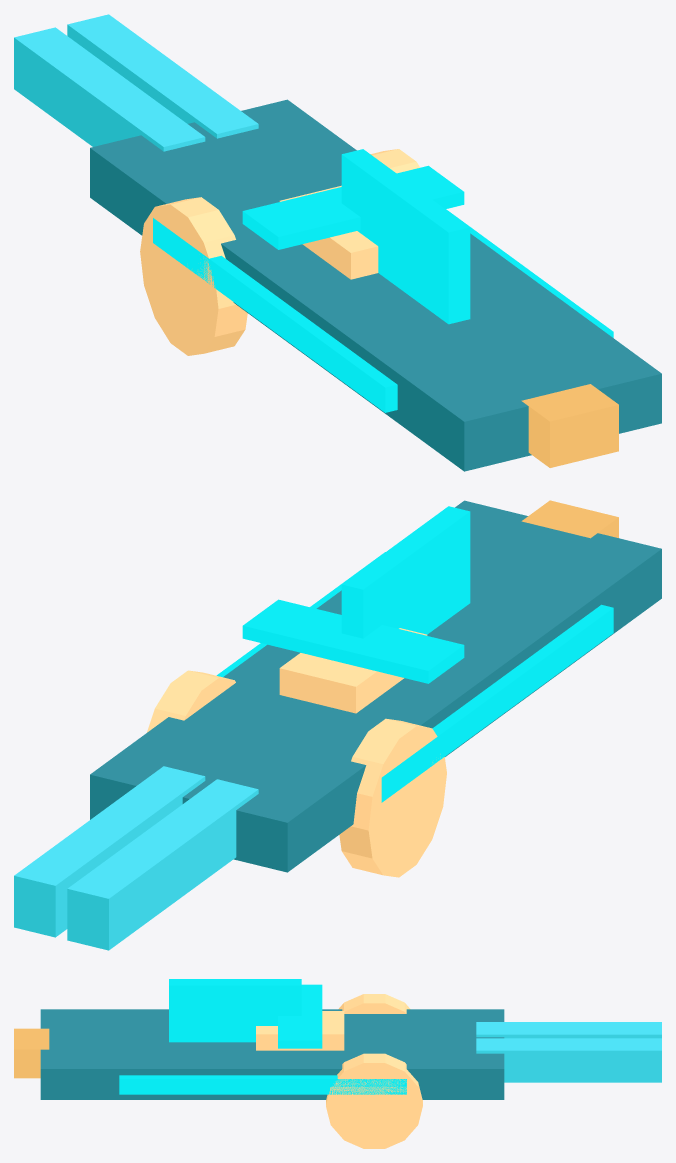
File: specter.glb
3 renders of one model, top to bottom at view 1: azimuth 30°, elevation 25°; view 2: azimuth 150°, elevation 25°; view 3: azimuth 270°, elevation 25°, orthographic. The views are drawn at different scales.
Parts seen in each view (by area): view 1: chassis, glow_fin, body_nose_l, wheel_l, glow_strip_side, body_nose_r, emitter, glow_strip_roof, canopy_wheel, glow_strip_side.001, wheel_r; view 2: chassis, body_nose_l, glow_fin, wheel_l, body_nose_r, glow_strip_roof, glow_strip_side, canopy_wheel, wheel_r, emitter; view 3: chassis, body_nose_r, glow_fin, wheel_r, glow_strip_side.001, body_nose_l, glow_strip_roof, canopy_wheel, emitter, wheel_l.
Boxes of the visible parts, x1,y1,x2,y2 form: chassis: (90, 99, 661, 471); glow_fin: (341, 149, 470, 324); body_nose_l: (14, 27, 205, 151); wheel_l: (140, 197, 247, 355); glow_strip_side: (153, 218, 397, 412); body_nose_r: (67, 14, 258, 138); emitter: (521, 384, 618, 467); glow_strip_roof: (242, 165, 464, 249); canopy_wheel: (279, 185, 378, 279); glow_strip_side.001: (446, 209, 613, 337); wheel_r: (370, 149, 419, 173); chassis: (90, 500, 661, 872); body_nose_l: (67, 779, 258, 950); glow_fin: (341, 506, 470, 638); wheel_l: (339, 718, 446, 877); body_nose_r: (14, 766, 205, 937); glow_strip_roof: (242, 599, 464, 683); glow_strip_side: (381, 604, 613, 802); canopy_wheel: (279, 628, 427, 713); wheel_r: (147, 670, 235, 732); emitter: (521, 500, 618, 538); chassis: (40, 1009, 504, 1099); body_nose_r: (476, 1038, 661, 1082); glow_fin: (169, 979, 301, 1042); wheel_r: (326, 1053, 422, 1148); glow_strip_side.001: (119, 1075, 406, 1094); body_nose_l: (476, 1022, 661, 1038); glow_strip_roof: (278, 984, 322, 1048); canopy_wheel: (256, 1011, 344, 1050); emitter: (14, 1028, 49, 1078); wheel_l: (338, 994, 410, 1013).
Size of the model in its own units: 0.37 by 0.3298 by 1.47.
